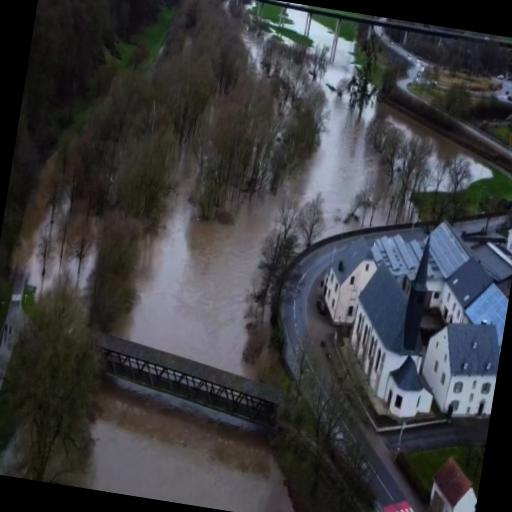flood: (114, 84, 488, 378), (88, 377, 295, 512), (321, 37, 354, 86), (310, 20, 333, 49), (290, 11, 305, 27)
house: (416, 306, 506, 430), (344, 260, 420, 388), (318, 234, 372, 336), (436, 256, 494, 326), (421, 214, 480, 280), (427, 454, 482, 512), (503, 206, 512, 263)
